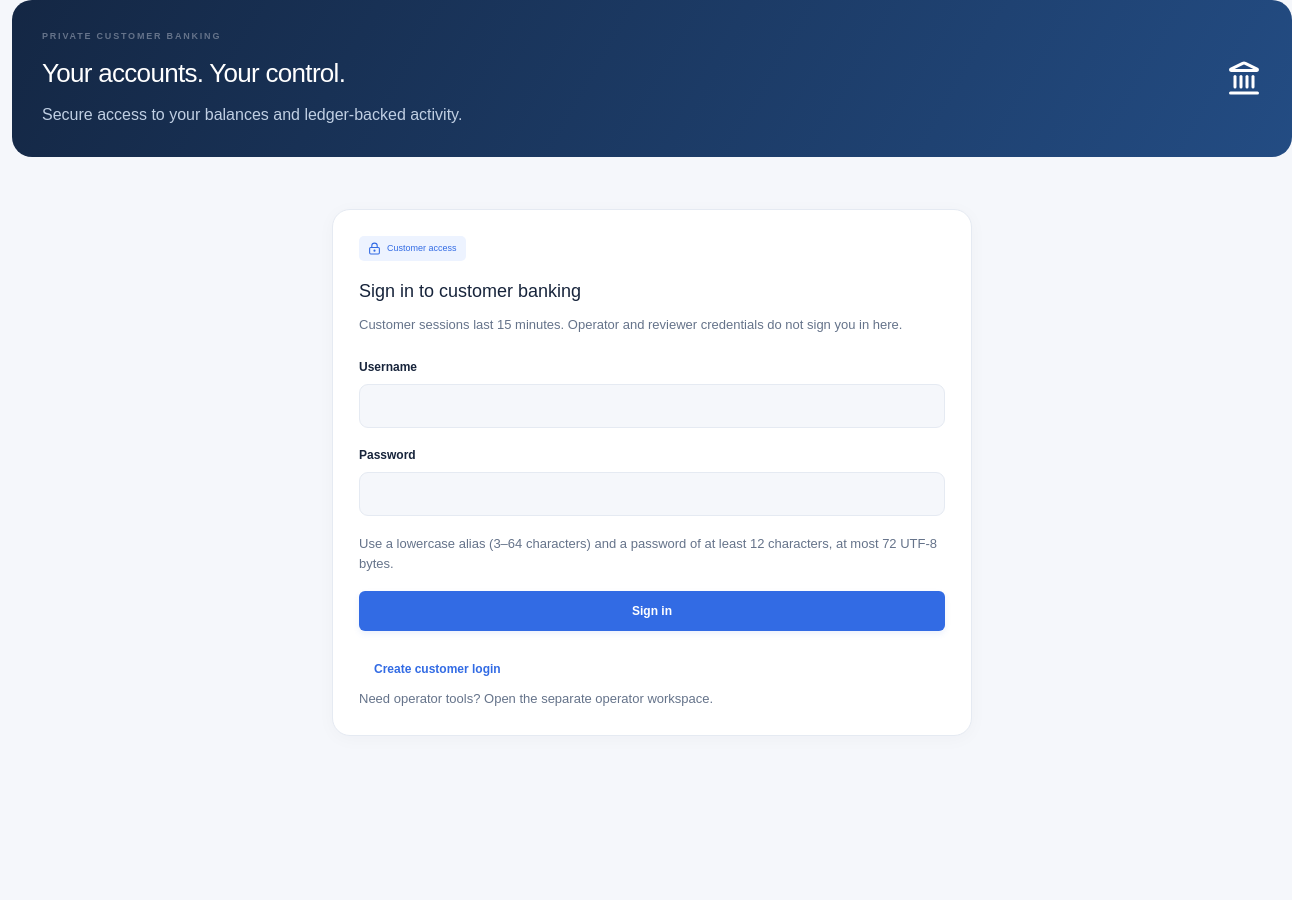
Test: customer identity and owned banking UI › registers without credentials in storage and requires a separate sign-in
Click the button "Create customer login".
click(437, 669)  # box [359,649,516,689]
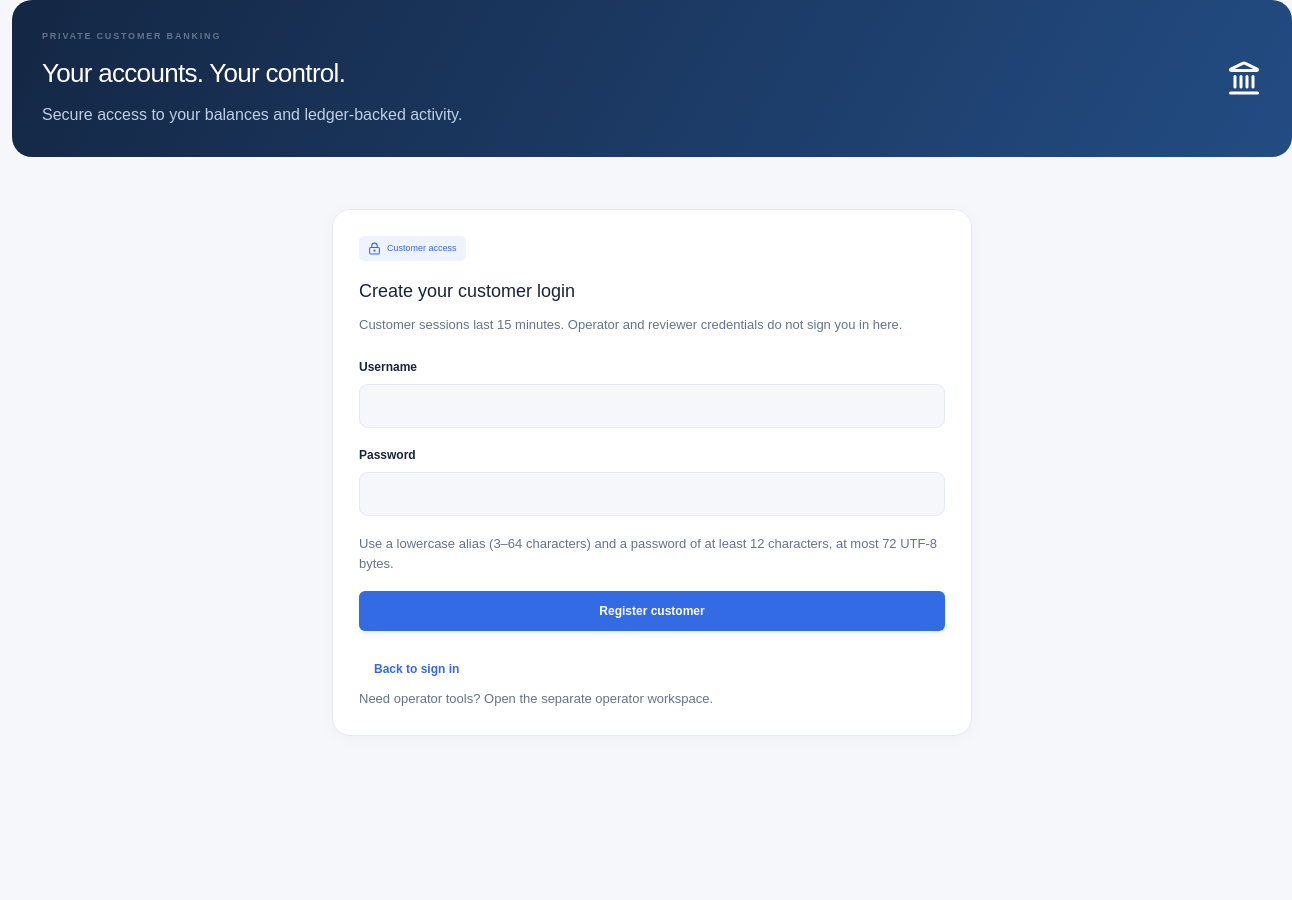
Type "alpha_user" into the field labelled "Username".
click(652, 406); type("alpha_user")  # box [359,384,945,428]
Type "test-password-portfolio" into the password field labelled "Password".
click(652, 494); type("test-password-portfolio")  # box [359,472,945,516]
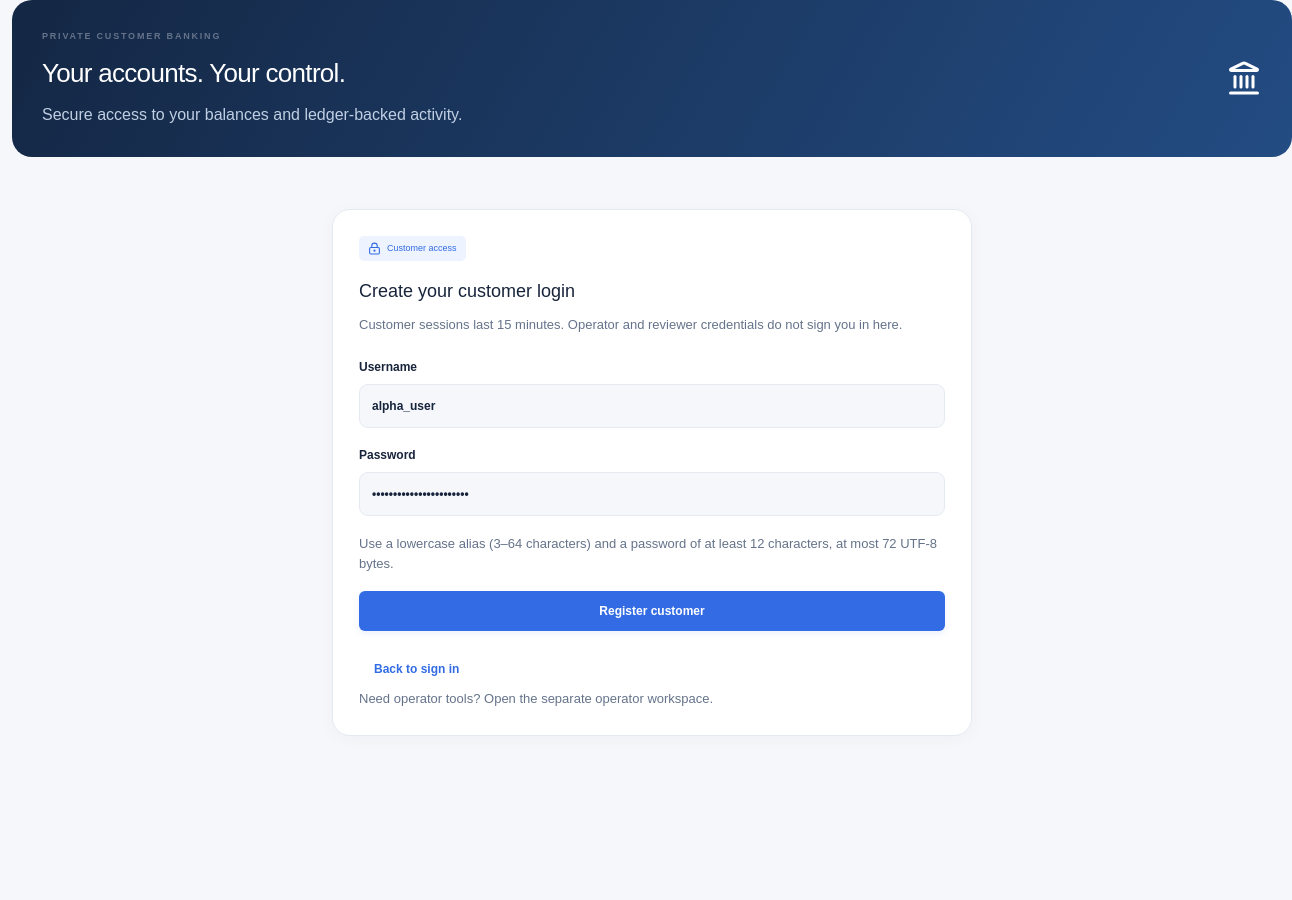
Click the button "Register customer".
click(652, 611)  # box [359,591,945,631]
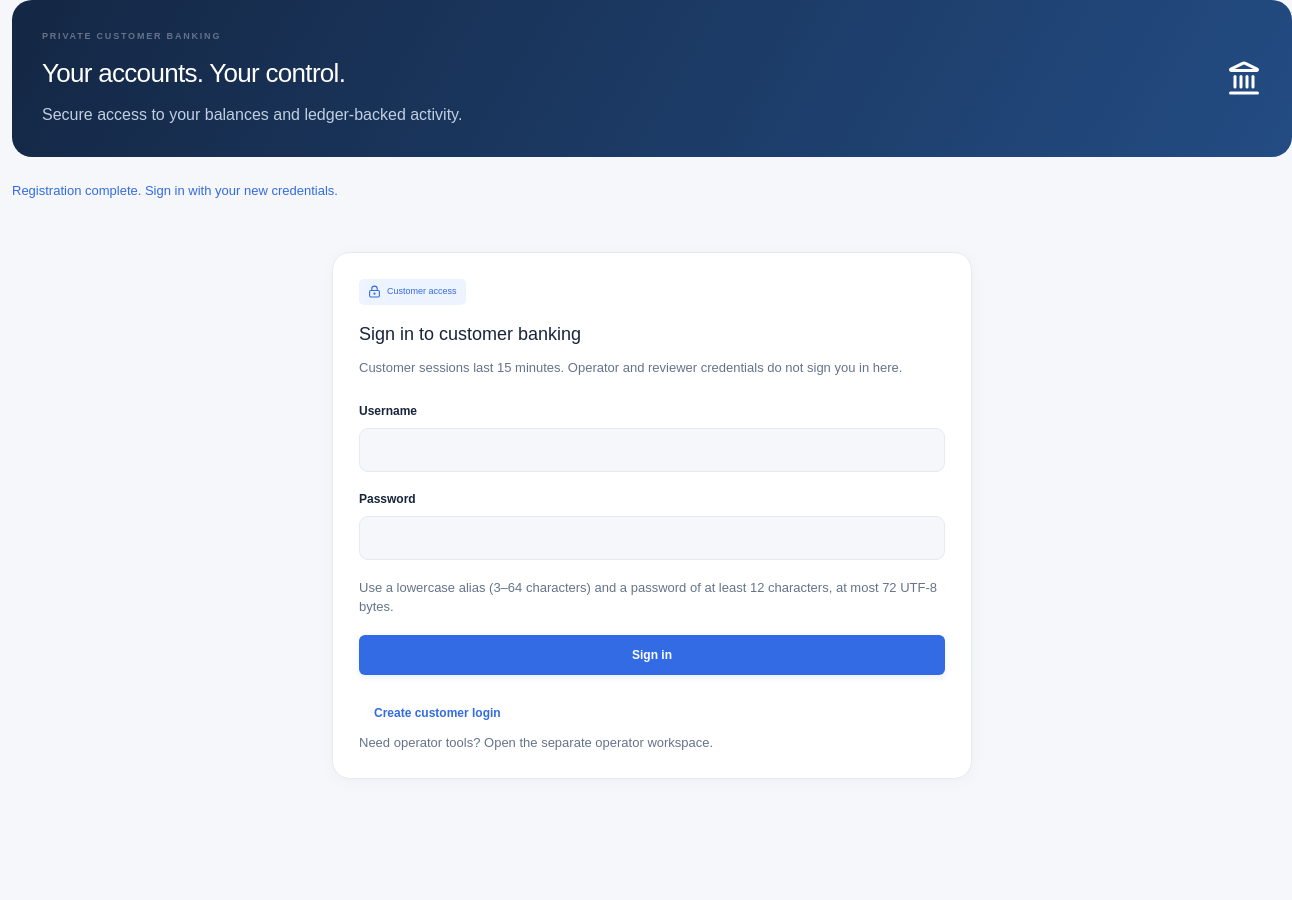
Expected: the text "Registration complete. Sign in with your new credentials." is shown, [12,182,338,198]
Expected: the password field labelled "Password" is empty, [359,516,945,560]
Type "alpha_user" into the field labelled "Username".
click(652, 450); type("alpha_user")  # box [359,428,945,472]
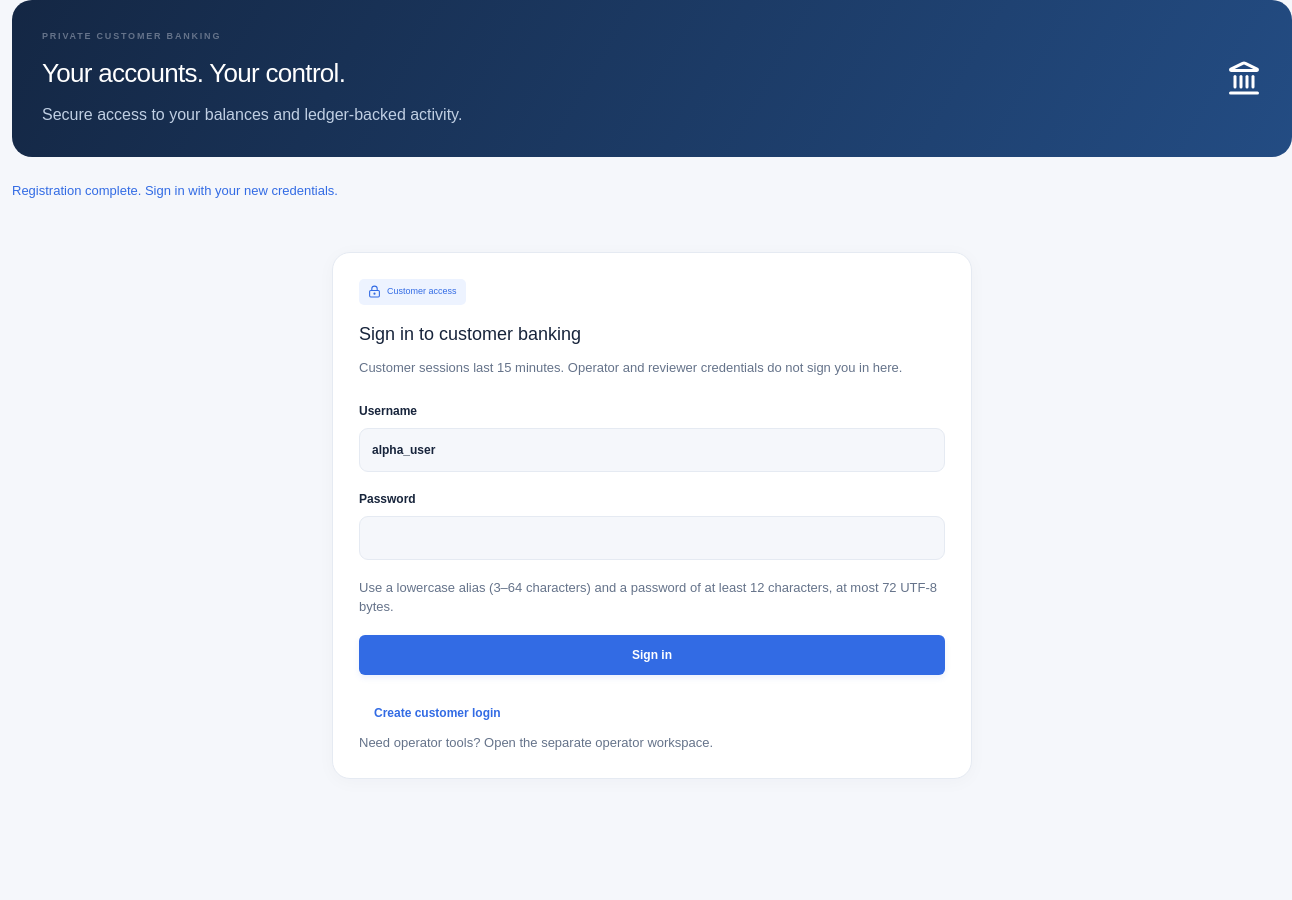
Type "test-password-portfolio" into the password field labelled "Password".
click(652, 538); type("test-password-portfolio")  # box [359,516,945,560]
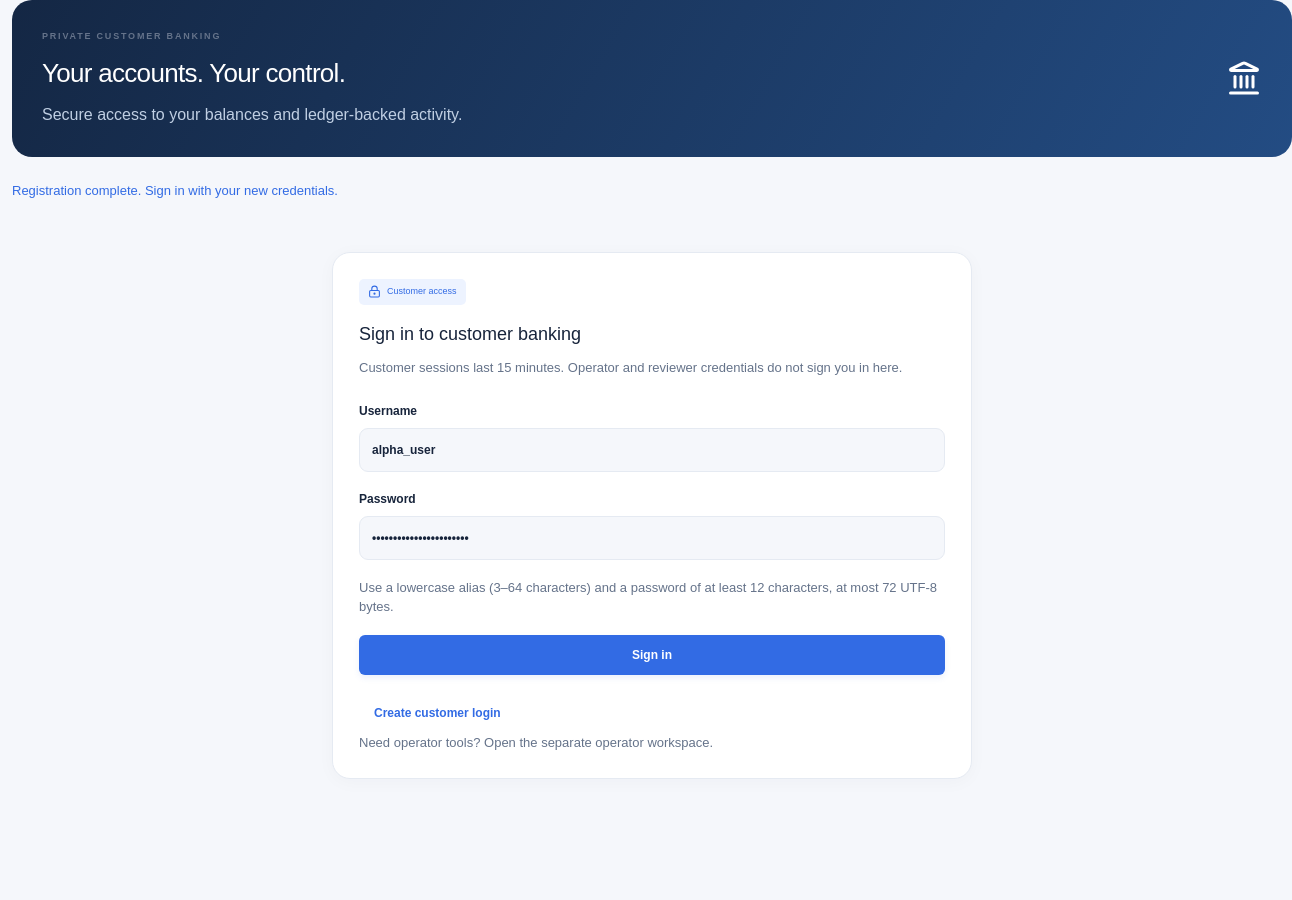
Click the button "Sign in".
click(652, 655)  # box [359,635,945,675]
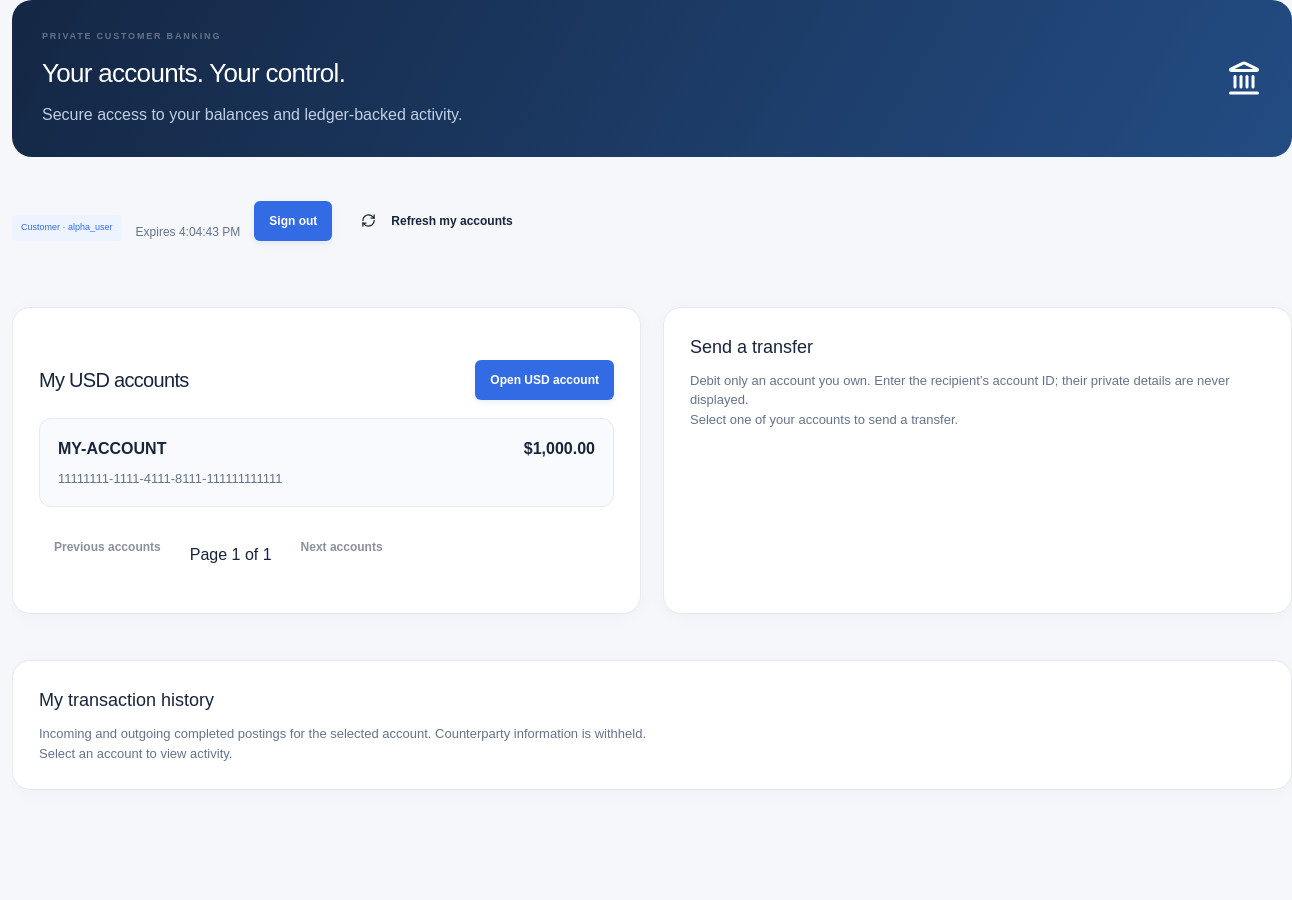
Expected: the text "Customer · alpha_user" is shown, [12,215,122,240]
Expected: the text "MY-ACCOUNT" is shown, [58,440,166,456]
